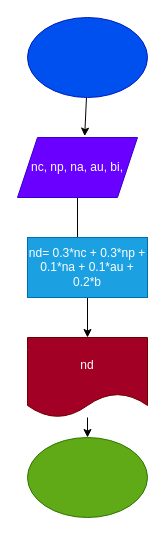
Image size: 165x535. Some labels were removed from this diagram. Each missing label, with the box of its shape:
FIN: (26, 436, 148, 518)
INICIO: (26, 16, 148, 98)
